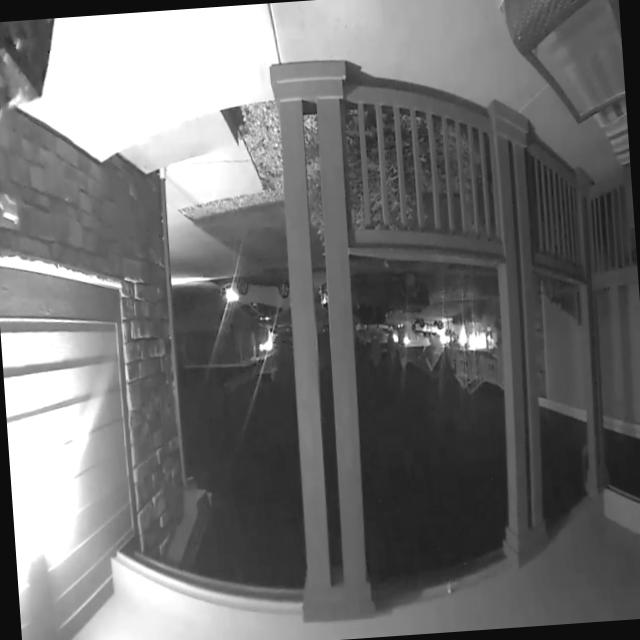car: (352, 263, 430, 339), (208, 268, 292, 334), (408, 314, 448, 347)
